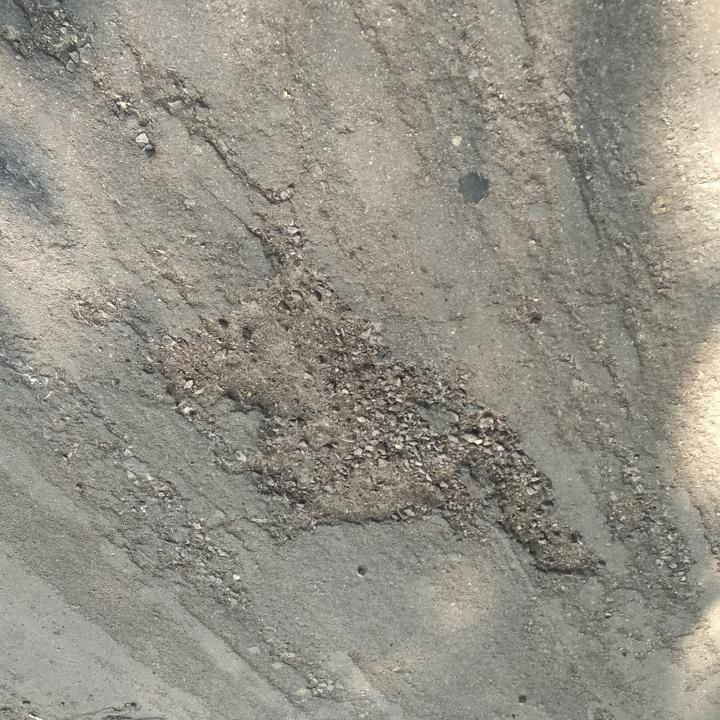pothole: (143, 245, 511, 553), (491, 414, 605, 579)
